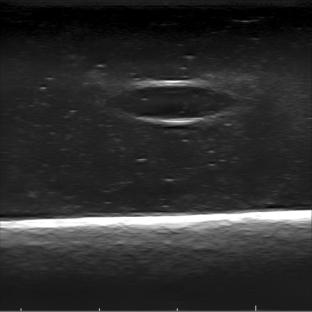vessel: (114, 79, 237, 125)
